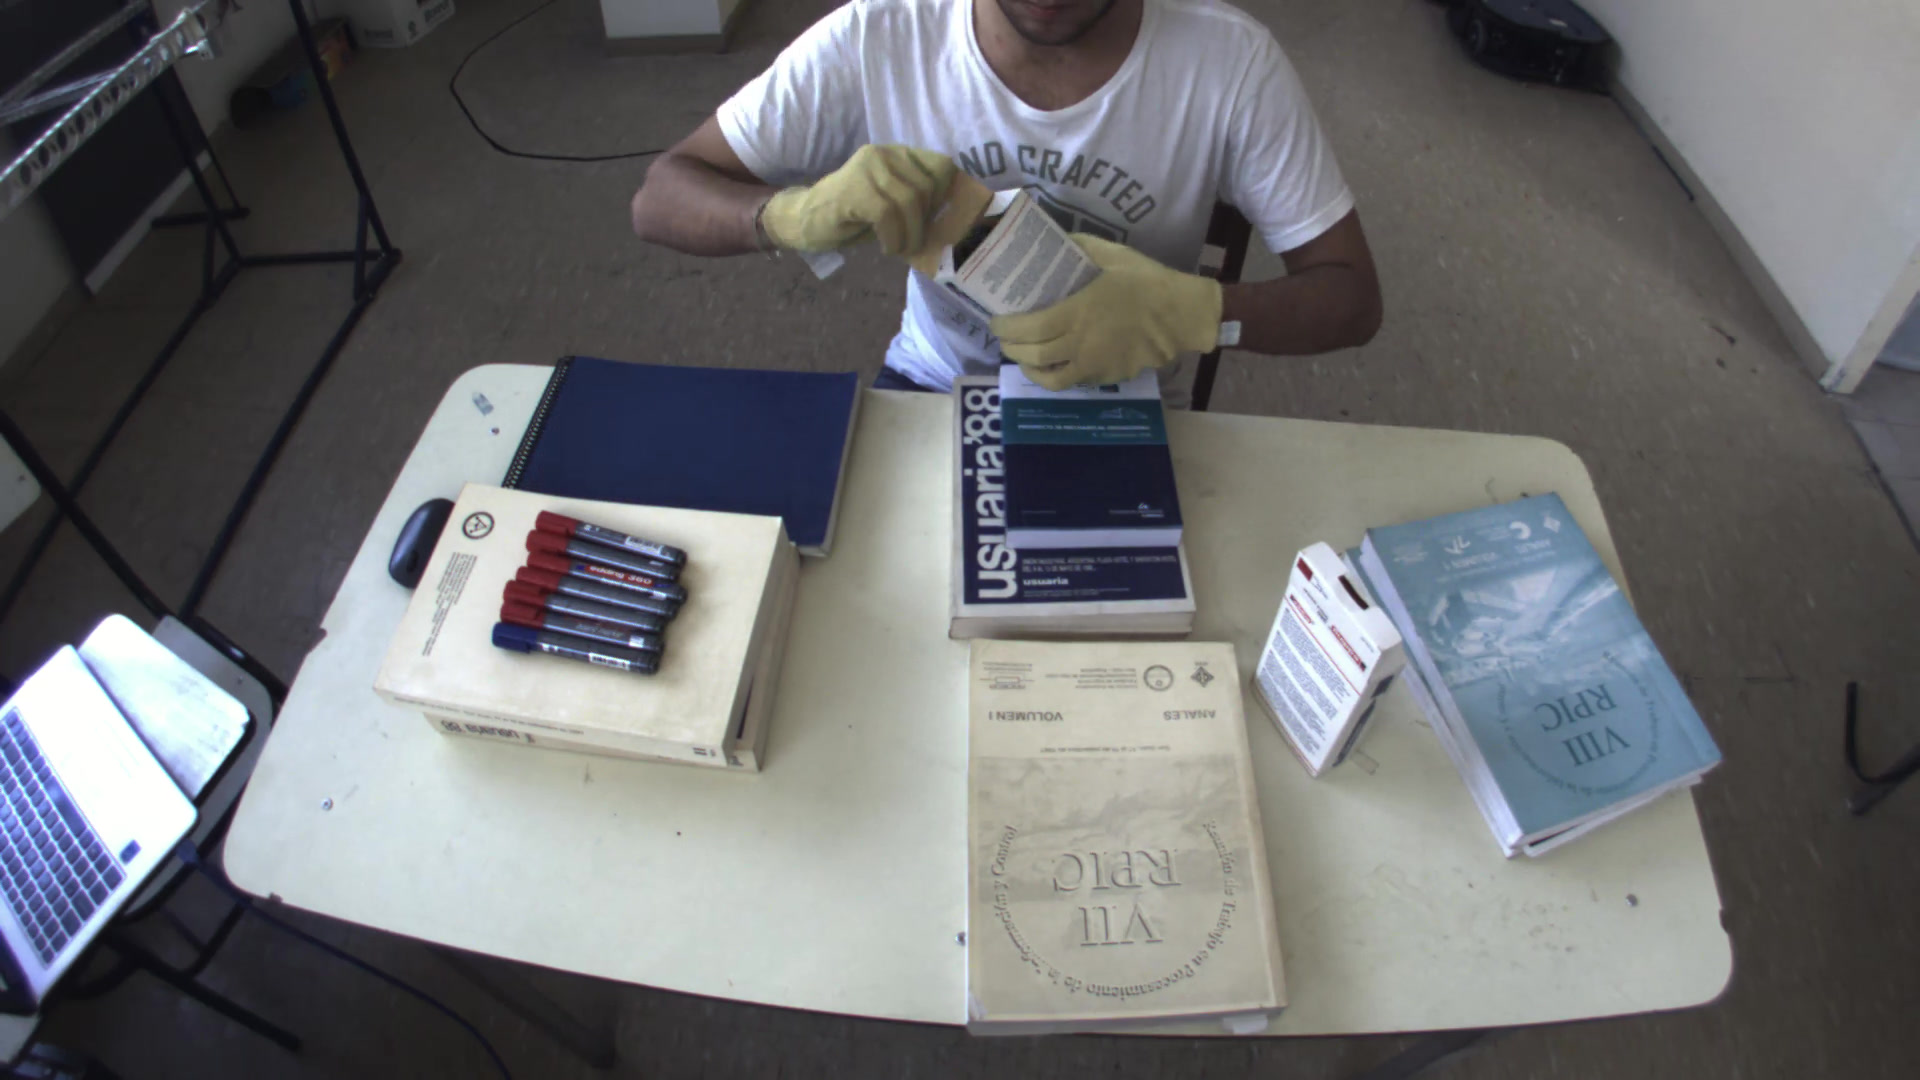hand: (972, 218, 1245, 394), (752, 131, 1007, 266)
